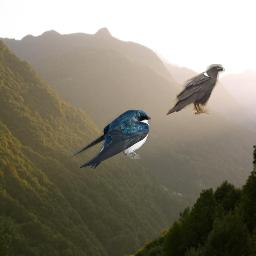Crow: (164, 64, 225, 118)
Swallow: (68, 109, 151, 169)
